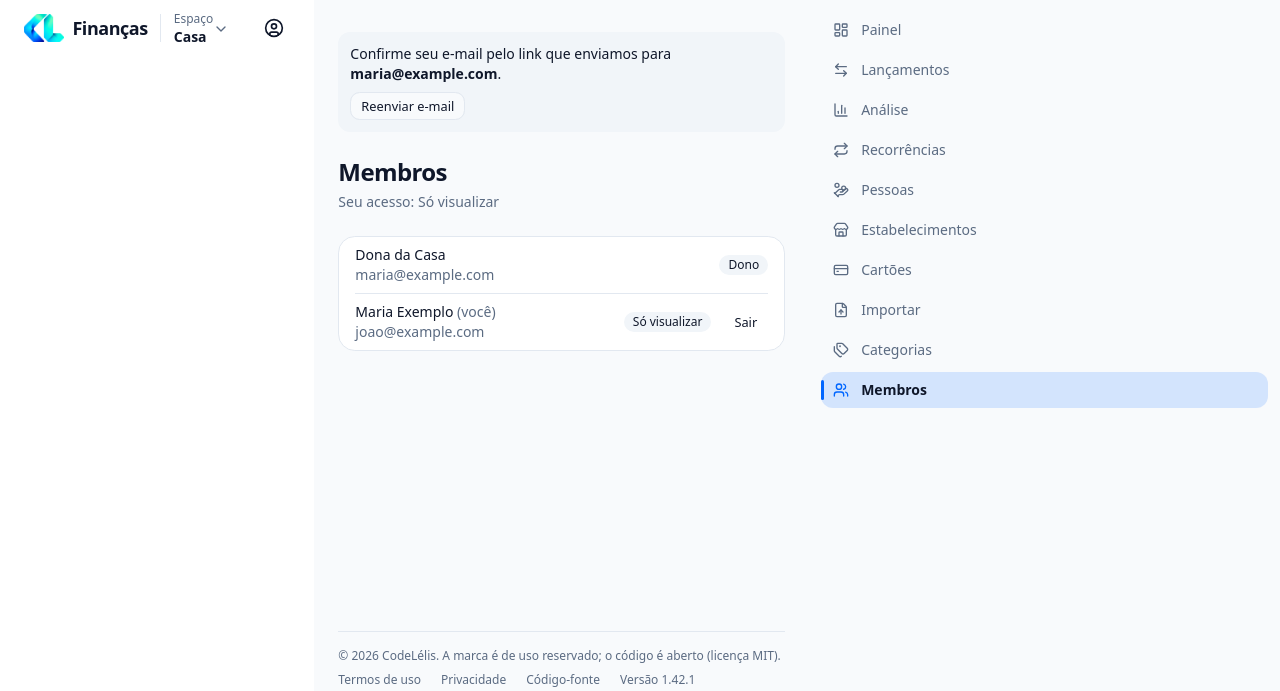
Test: WorkspacePage › lets any other member leave, and goes back to their own workspaces
Click the button with aria-label "Sair de Casa".
click(746, 322)  # box [723,308,768,336]
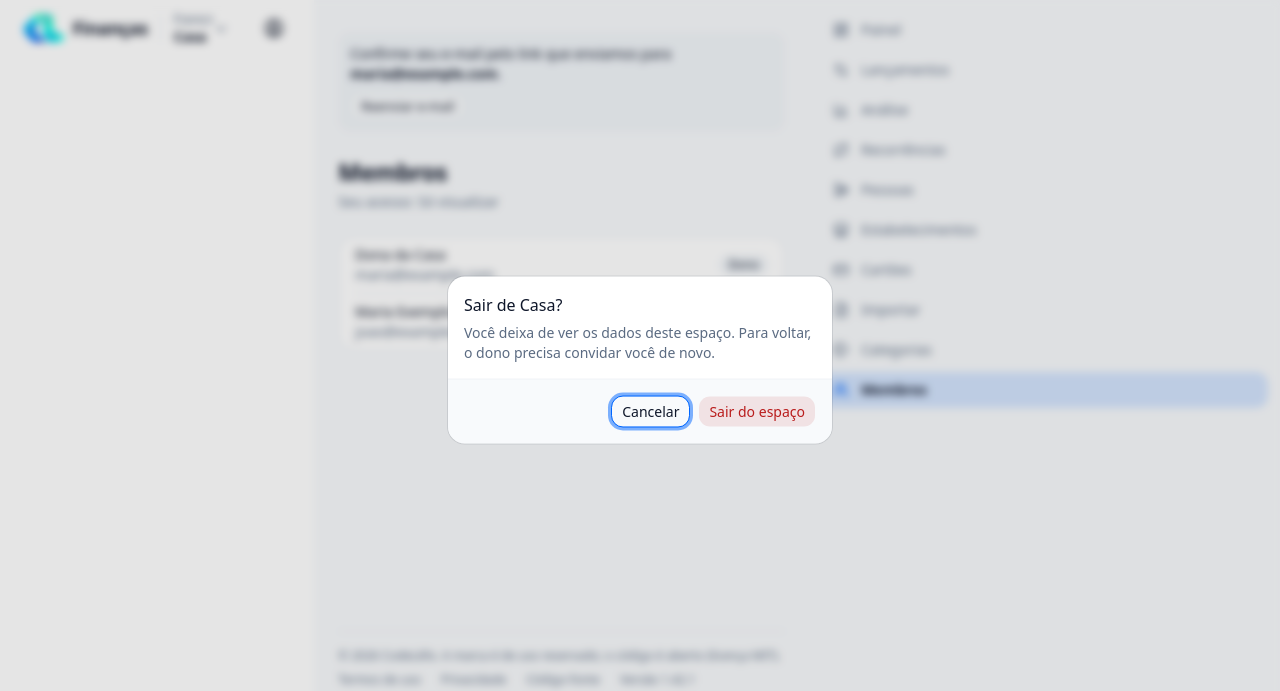
Click the button "Sair do espaço".
click(757, 412)  # box [698,396,816,428]
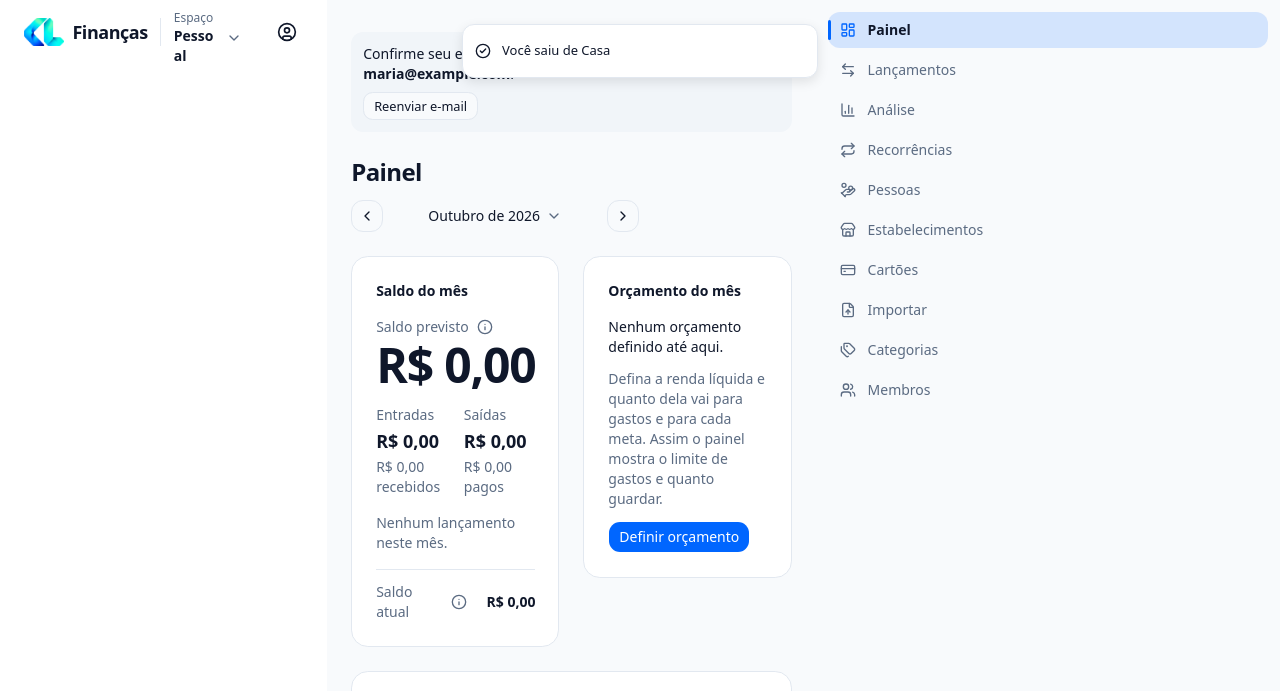
Check: the text "Você saiu de Casa" is shown, box [502,41,610,60]
